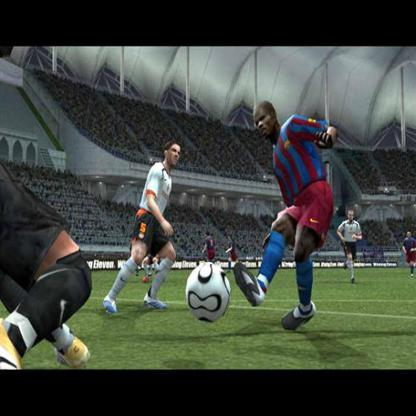face: (254, 109, 273, 140), (170, 144, 182, 166), (349, 213, 355, 221)
